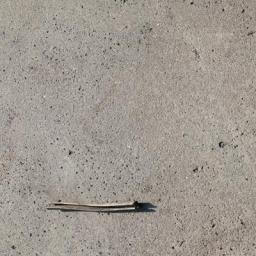FOD: (41, 195, 162, 217)
